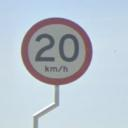speed_limit_20: (20, 17, 94, 85)
